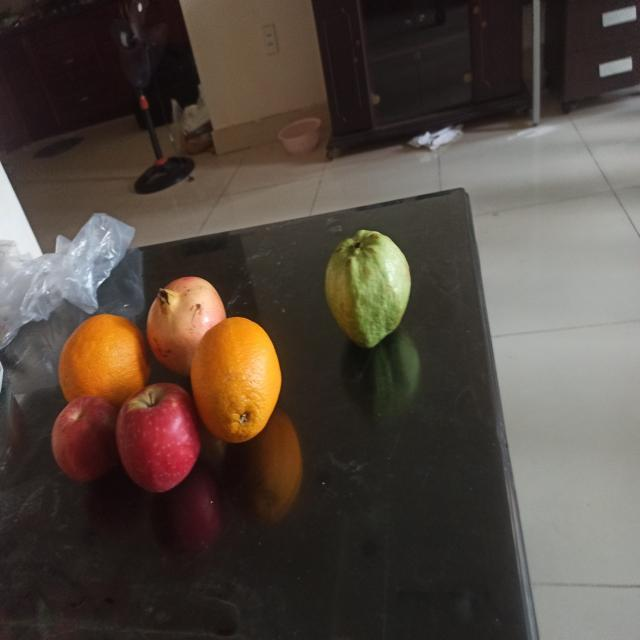apple: (116, 377, 200, 492), (52, 398, 116, 475)
